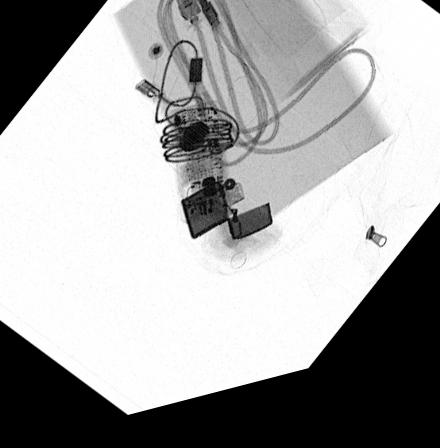Lighter: (180, 188, 273, 251)
